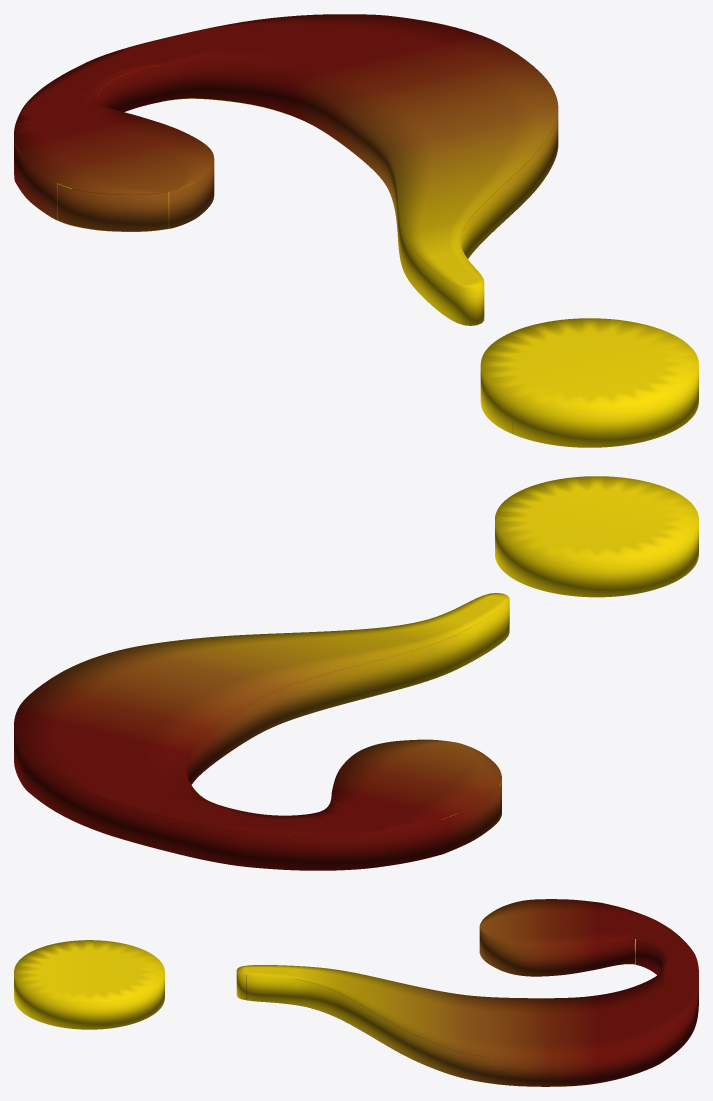
File: QuestionMark.fbx
3 views of the same model, one above another, from view 1: azimuth 30°, elevation 25°; view 2: azimuth 150°, elevation 25°; view 3: azimuth 270°, elevation 25° (orthographic). The views are drawn at different scales.
Parts seen in each view (by area): view 1: Question Mark; view 2: Question Mark; view 3: Question Mark.
Boxes of the visible parts, x1,y1,x2,y2 form: Question Mark: (14,14,698,447); Question Mark: (14,476,698,870); Question Mark: (14,899,698,1086).
Bounding box in the file's own units: 8.79 × 0.654 × 15.72.
Materials: 1 (1 with a texture image).
